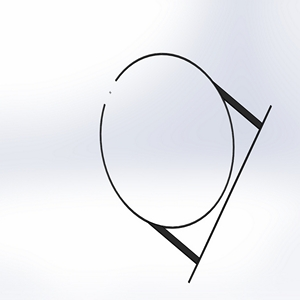circle: (97, 51, 274, 285)
